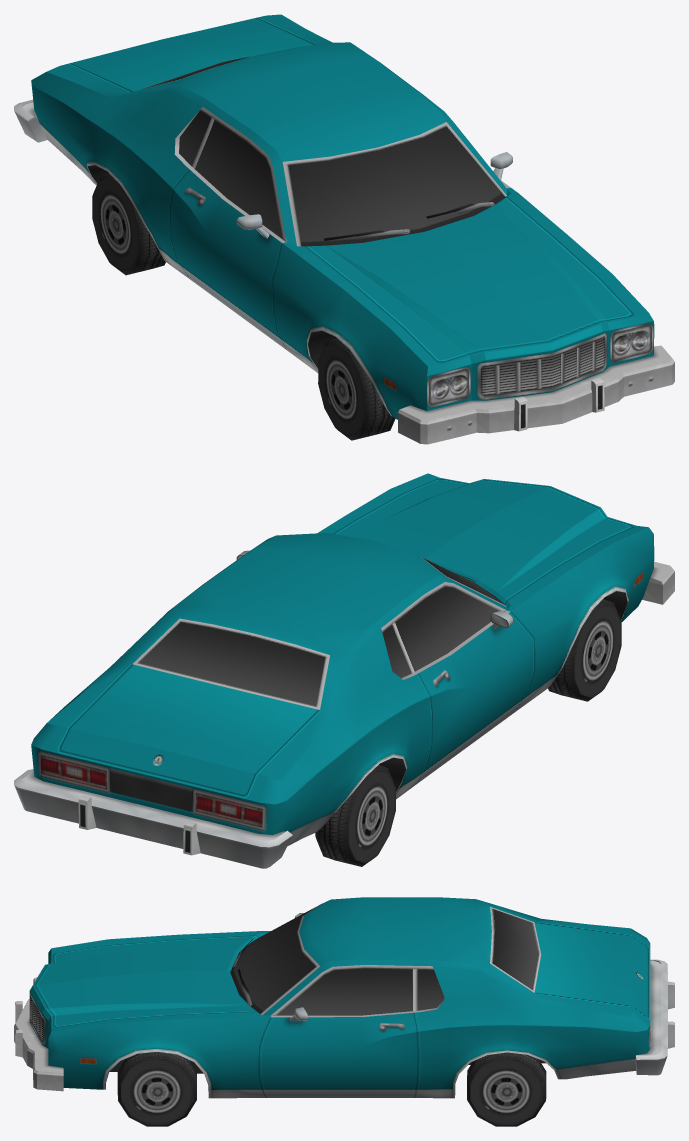
File: Classic_American_Car.fbx
3 views of the same model, one above another, from view 1: azimuth 30°, elevation 25°; view 2: azimuth 150°, elevation 25°; view 3: azimuth 270°, elevation 25° (orthographic). The views are drawn at different scales.
Visible parts, largest first — view 1: Chassis, RF_Wheel, RR_Wheel; view 2: Chassis, RR_Wheel, RF_Wheel; view 3: Chassis, LF_Wheel, LR_Wheel.
Part boxes in pixels (<box>): Chassis: <box>14,14,674,444</box>; RF_Wheel: <box>318,338,395,440</box>; RR_Wheel: <box>92,173,165,275</box>; Chassis: <box>14,473,674,868</box>; RR_Wheel: <box>315,765,395,866</box>; RF_Wheel: <box>548,599,621,701</box>; Chassis: <box>14,897,674,1098</box>; LF_Wheel: <box>117,1051,196,1126</box>; LR_Wheel: <box>467,1052,546,1126</box>.
Bounding box in the file's own units: 2.07 × 1.47 × 5.61.
Materials: 2 (2 with a texture image).
